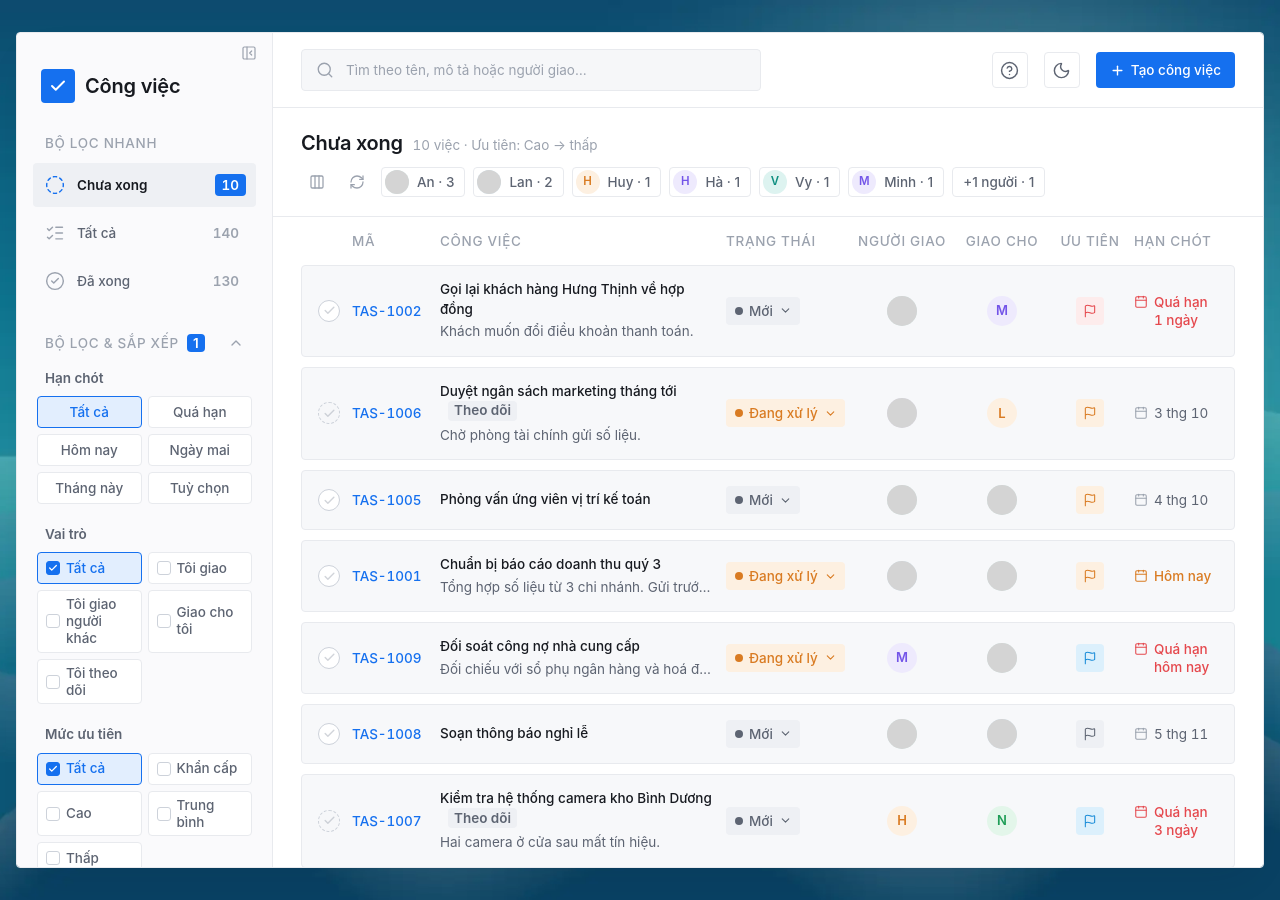
Test: loading, error and session states (AC2) › switches to the expired state when a write hits 403, closing any popup
Click the checkbox with test id "task-checkbox".
click(329, 500)  # box left=318, top=489, right=340, bottom=511
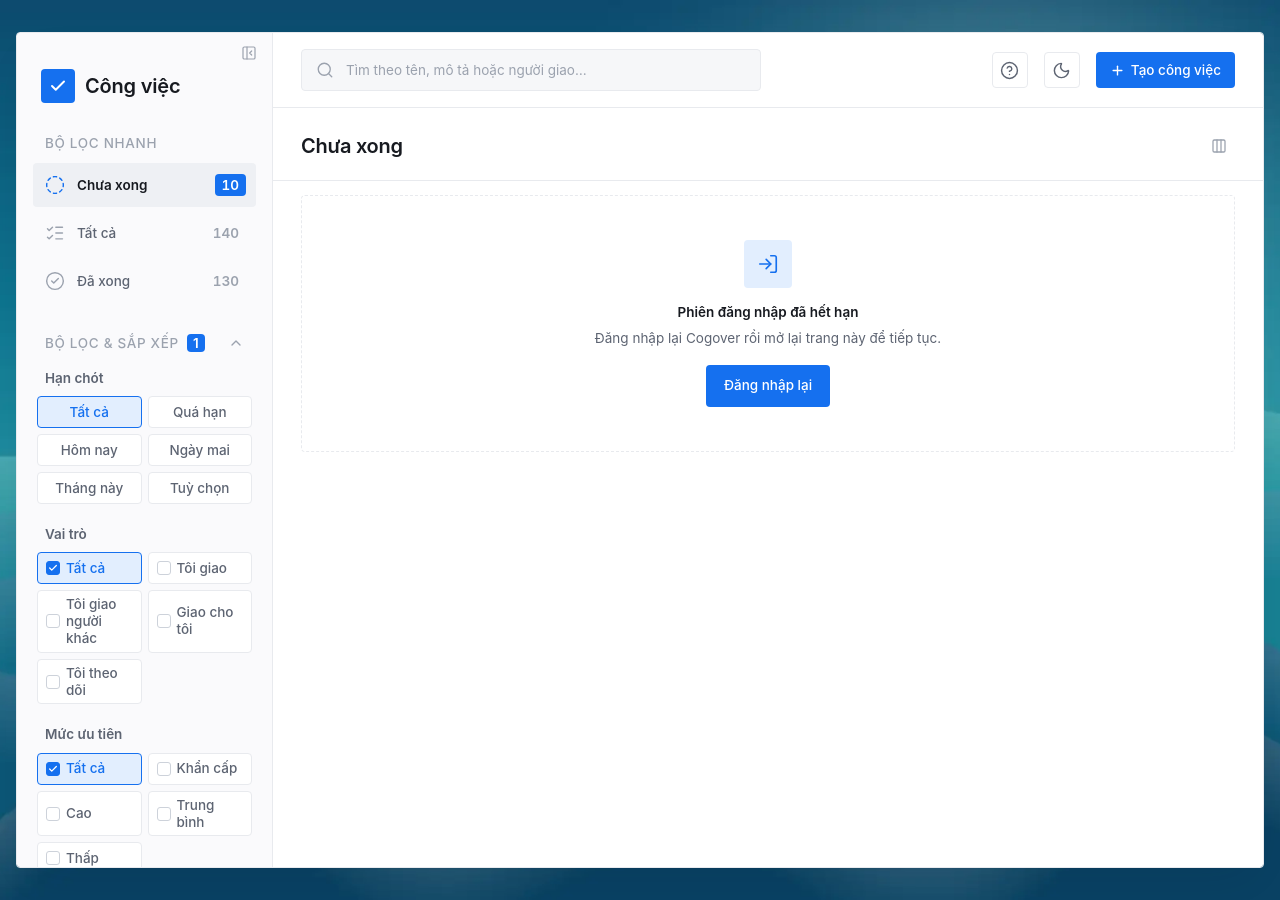
Expected: the message with test id "session-expired" is shown, left=301, top=195, right=1235, bottom=452
